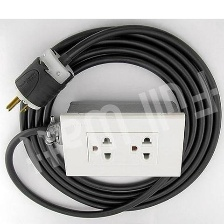three_eye_plug: (52, 90, 195, 190)
